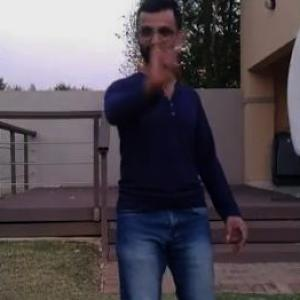takeoff-hand: (137, 27, 188, 90)
